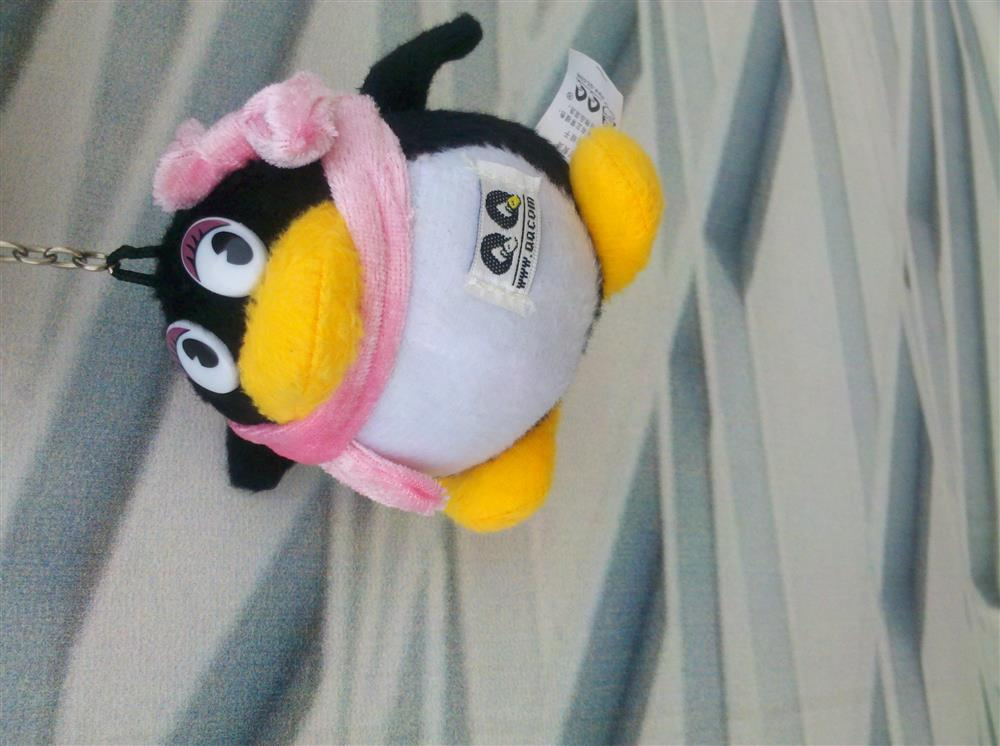Tencent_Penguin: (148, 9, 663, 532)
